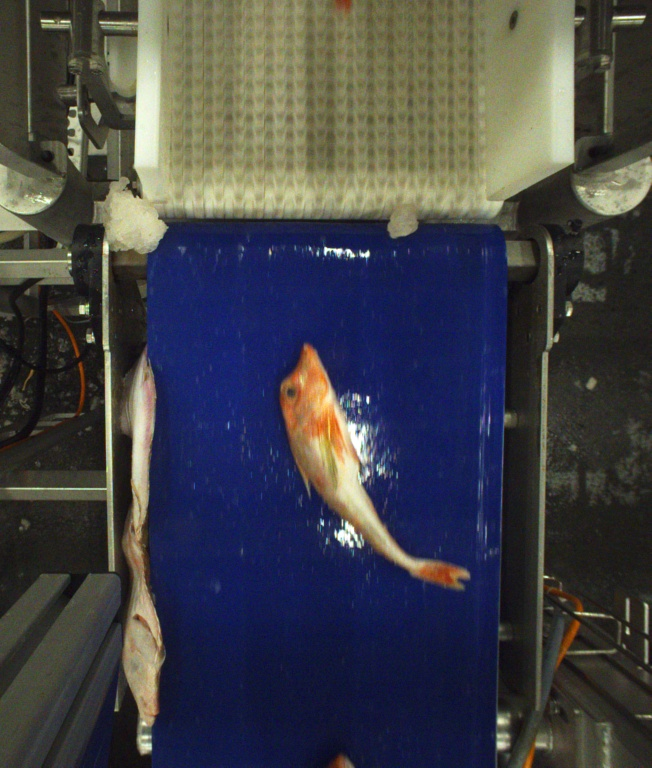GUU: (277, 343, 470, 592)
